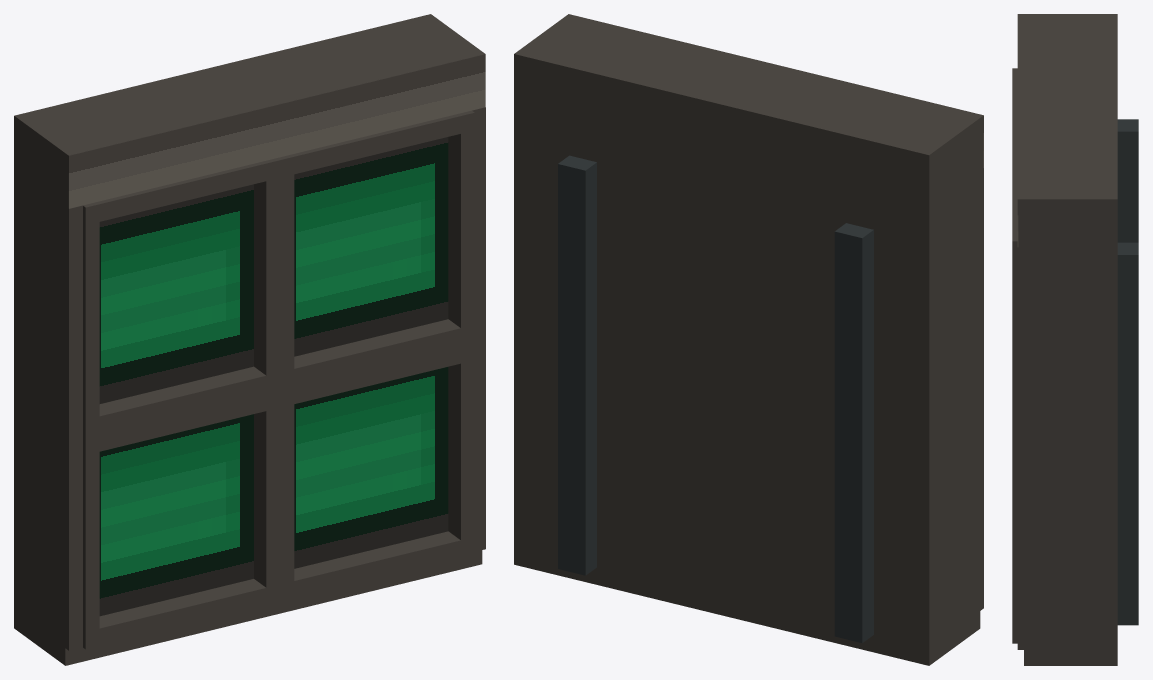
File: CMU3DMultiMonitorBigCloudNorth.glb
3 views of the same model, side by side, from view 1: azimuth 30°, elevation 25°; view 2: azimuth 150°, elevation 25°; view 3: azimuth 270°, elevation 25° (orthographic). The views are drawn at different scales.
Parts seen in each view (by area): view 1: display 1 recessed inset original face, display 2 recessed inset original face, display 4 recessed inset original face, display 3 recessed inset original face, full depth left chassis, upper horizontal casing original face, upper horizontal casing, left outer steel stile, display 3 upper frame, display 3 lower frame, display 1 upper frame, display 1 right frame (+10 smaller); view 2: rear cabinet wall, upper horizontal casing, left outer steel stile, full depth left chassis, rear left mounting batten, rear right mounting batten, central vertical display divider, full depth right chassis, display 3 upper frame, right outer steel stile; view 3: full depth right chassis, right outer steel stile, upper horizontal casing, rear right mounting batten, rear cabinet wall, rear left mounting batten, display 1 upper frame, display 2 right frame, display 4 right frame, full depth left chassis, upper horizontal casing original face.
Boxes of the visible parts, left/top/right/bottom form: display 1 recessed inset original face: left=99, top=184, right=253, bottom=403; display 2 recessed inset original face: left=294, top=137, right=448, bottom=356; display 4 recessed inset original face: left=294, top=367, right=448, bottom=568; display 3 recessed inset original face: left=99, top=414, right=253, bottom=616; full depth left chassis: left=14, top=112, right=79, bottom=665; upper horizontal casing original face: left=68, top=54, right=485, bottom=208; upper horizontal casing: left=14, top=14, right=484, bottom=208; left outer steel stile: left=14, top=169, right=82, bottom=650; display 3 upper frame: left=83, top=319, right=474, bottom=454; display 3 lower frame: left=83, top=531, right=474, bottom=649; display 1 upper frame: left=83, top=110, right=474, bottom=224; display 1 right frame: left=264, top=174, right=294, bottom=375; rear cabinet wall: left=528, top=51, right=923, bottom=662; upper horizontal casing: left=514, top=14, right=983, bottom=207; left outer steel stile: left=915, top=168, right=983, bottom=648; full depth left chassis: left=915, top=114, right=980, bottom=665; rear left mounting batten: left=834, top=223, right=873, bottom=643; rear right mounting batten: left=558, top=155, right=596, bottom=575; central vertical display divider: left=707, top=154, right=735, bottom=600; full depth right chassis: left=514, top=16, right=577, bottom=567; display 3 upper frame: left=528, top=321, right=914, bottom=450; right outer steel stile: left=514, top=107, right=527, bottom=549; full depth right chassis: left=1024, top=193, right=1117, bottom=665; right outer steel stile: left=1017, top=247, right=1117, bottom=649; upper horizontal casing: left=1018, top=14, right=1117, bottom=247; rear right mounting batten: left=1117, top=242, right=1138, bottom=625; rear cabinet wall: left=1101, top=20, right=1117, bottom=192; rear left mounting batten: left=1117, top=119, right=1138, bottom=242; display 1 upper frame: left=1012, top=68, right=1017, bottom=257; display 2 right frame: left=1012, top=257, right=1017, bottom=434; display 4 right frame: left=1012, top=466, right=1017, bottom=627; full depth left chassis: left=1024, top=14, right=1117, bottom=20; upper horizontal casing original face: left=1017, top=14, right=1018, bottom=246.
Size of the model in its own units: 0.9375 by 1.1 by 0.27.
6 materials, 3 textured.
